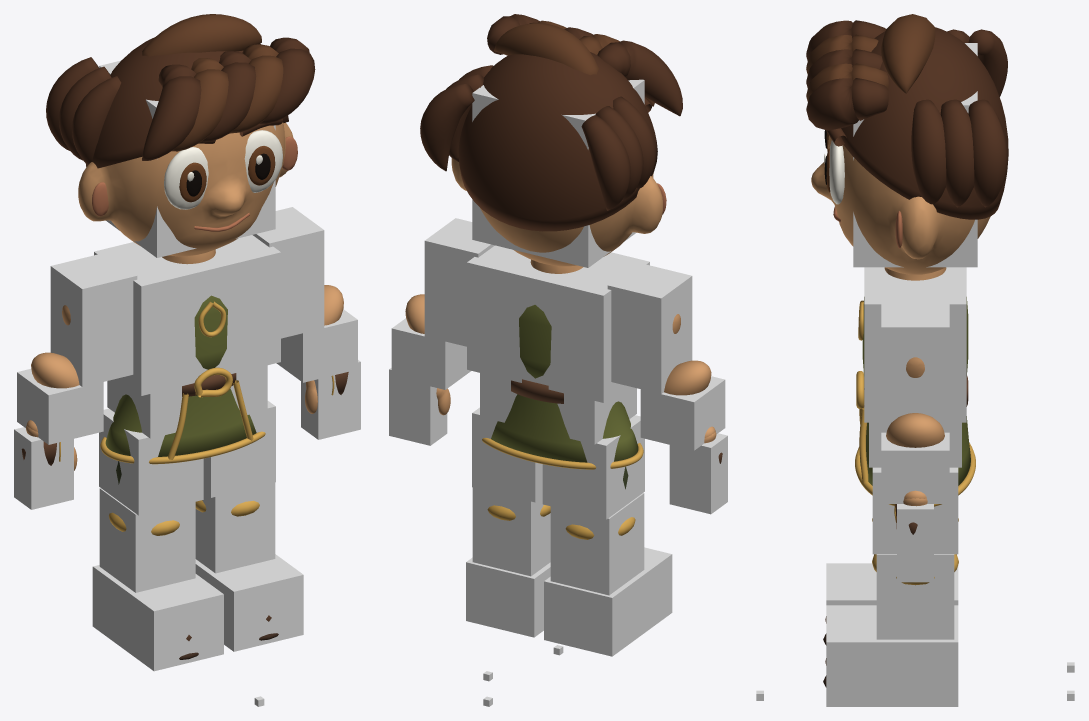
The model's file is Guerreiro_Visual_R15.fbx.
3 renders of one model, left to right at view 1: azimuth 30°, elevation 25°; view 2: azimuth 150°, elevation 25°; view 3: azimuth 270°, elevation 25°, orthographic. The views are drawn at different scales.
Visible parts, largest first — view 1: Wear_Helmet_Head, Bind_UpperTorso, Visual_Head, Bind_RightFoot, Bind_RightUpperArm, Wear_Armor_LowerTorso, Bind_RightLowerLeg, Bind_LeftFoot, Bind_RightUpperLeg, Bind_LeftLowerLeg, Bind_LeftUpperArm, Bind_RightLowerArm (+9 smaller); view 2: Wear_Helmet_Head, Bind_UpperTorso, Bind_RightUpperArm, Bind_RightFoot, Wear_Armor_LowerTorso, Bind_RightLowerLeg, Bind_RightUpperLeg, Bind_LeftLowerLeg, Bind_LeftUpperArm, Visual_Head, Bind_LeftFoot, Bind_RightLowerArm (+9 smaller); view 3: Wear_Helmet_Head, Bind_LeftFoot, Visual_Head, Bind_LeftUpperArm, Bind_UpperTorso, Bind_LeftLowerLeg, Bind_LeftLowerArm, Bind_LeftUpperLeg, Bind_LeftHand, Bind_RightFoot, Bind_Head, Wear_Armor_LowerTorso (+3 smaller).
Boxes of the visible parts, x1,y1,x2,y2 form: Wear_Helmet_Head: (46,14,315,168); Bind_UpperTorso: (94,235,280,395); Visual_Head: (78,118,297,256); Bind_RightFoot: (92,565,223,671); Bind_RightUpperArm: (50,252,137,386); Wear_Armor_LowerTorso: (100,367,265,464); Bind_RightLowerLeg: (99,488,195,592); Bind_LeftFoot: (195,554,303,651); Bind_RightUpperLeg: (99,408,203,515); Bind_LeftLowerLeg: (195,482,275,573); Bind_LeftUpperArm: (253,207,324,338); Bind_RightLowerArm: (17,369,103,444); Wear_Helmet_Head: (420,14,682,231); Bind_UpperTorso: (467,245,649,402); Bind_RightUpperArm: (607,262,692,393); Bind_RightFoot: (544,547,672,656); Wear_Armor_LowerTorso: (482,379,643,469); Bind_RightLowerLeg: (550,493,644,595); Bind_RightUpperLeg: (542,415,644,519); Bind_LeftLowerLeg: (472,487,550,576); Bind_LeftUpperArm: (424,218,494,346); Visual_Head: (451,98,666,266); Bind_LeftFoot: (466,557,550,637); Bind_RightLowerArm: (640,376,725,450); Wear_Helmet_Head: (806,14,1008,219); Bind_LeftFoot: (826,605,958,706); Visual_Head: (811,128,990,274); Bind_LeftUpperArm: (881,298,949,432); Bind_UpperTorso: (864,267,966,422); Bind_LeftLowerLeg: (876,554,954,639); Bind_LeftLowerArm: (881,432,949,503); Bind_LeftUpperLeg: (872,467,958,554); Bind_LeftHand: (897,504,933,582); Bind_RightFoot: (826,563,958,605); Bind_Head: (853,43,977,267); Wear_Armor_LowerTorso: (855,371,975,506).
Bounding box in the file's own units: 265 × 486 × 205.
Materials: 1 (1 with a texture image).
